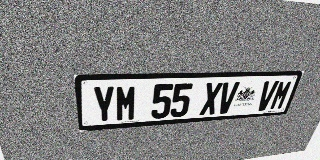5: (151, 84, 174, 119), (170, 83, 193, 118)
M: (116, 85, 137, 122), (269, 80, 294, 110)
V: (216, 82, 240, 114), (255, 81, 279, 111)
X: (199, 82, 223, 115)
Y: (92, 86, 115, 123)
